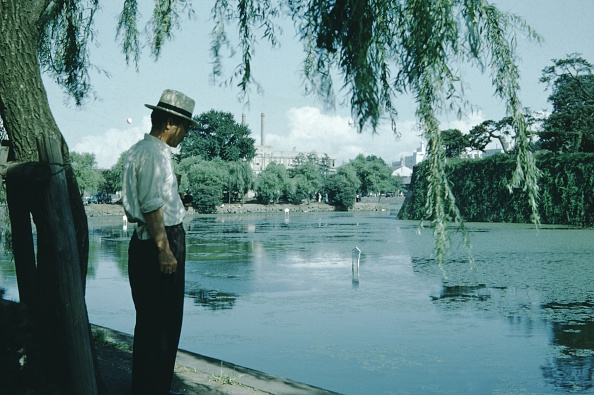em pe: (116, 97, 189, 392)
